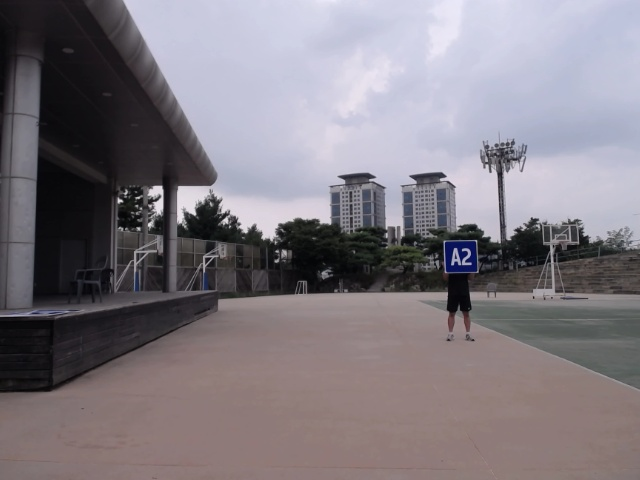delivery_a2: (444, 240, 478, 273)
